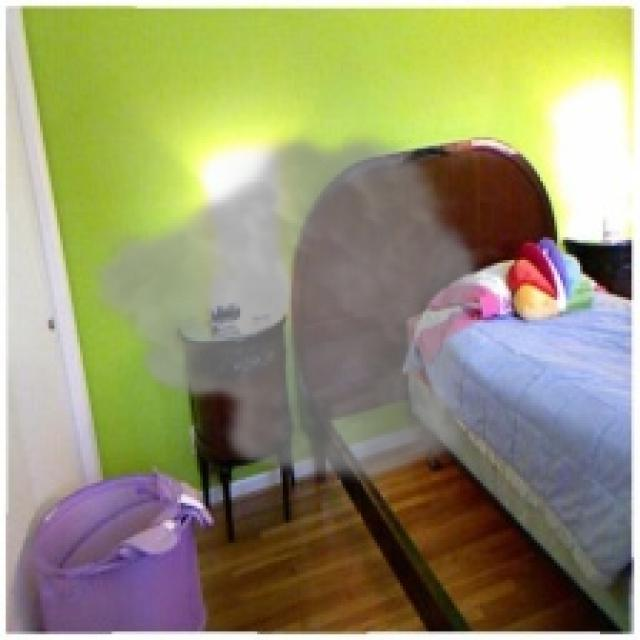Smoke: (80, 122, 486, 488)
